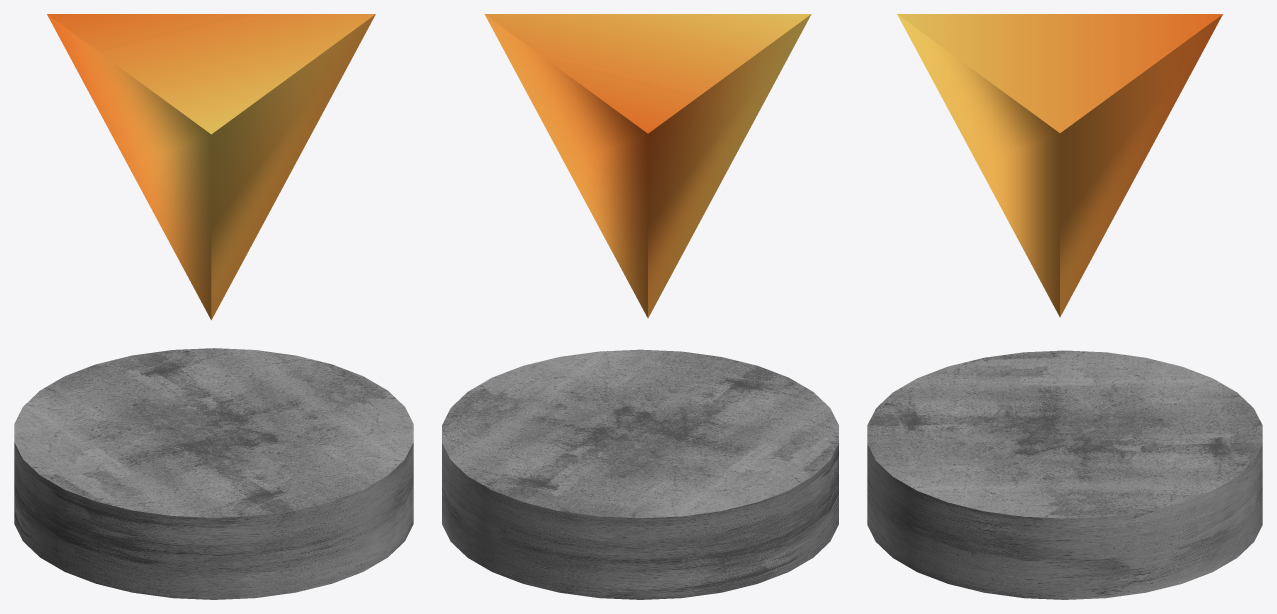
Rendered from pyr-yellow.glb.
The picture shows the model from 3 angles, left to right: view 1: azimuth 30°, elevation 25°; view 2: azimuth 150°, elevation 25°; view 3: azimuth 270°, elevation 25°; orthographic projection.
Visible parts, largest first — view 1: 015_Cylinder_-_baked_8, 016_Cone_2; view 2: 015_Cylinder_-_baked_8, 016_Cone_2; view 3: 015_Cylinder_-_baked_8, 016_Cone_2.
Part boxes in pixels (left/top/right/bottom): 015_Cylinder_-_baked_8: left=14, top=348, right=413, bottom=599; 016_Cone_2: left=47, top=14, right=375, bottom=320; 015_Cylinder_-_baked_8: left=442, top=349, right=838, bottom=599; 016_Cone_2: left=484, top=14, right=811, bottom=318; 015_Cylinder_-_baked_8: left=867, top=350, right=1262, bottom=599; 016_Cone_2: left=897, top=14, right=1222, bottom=317.
Size of the model in its own units: 18.41 by 23.47 by 18.31.
2 materials, 2 textured.
